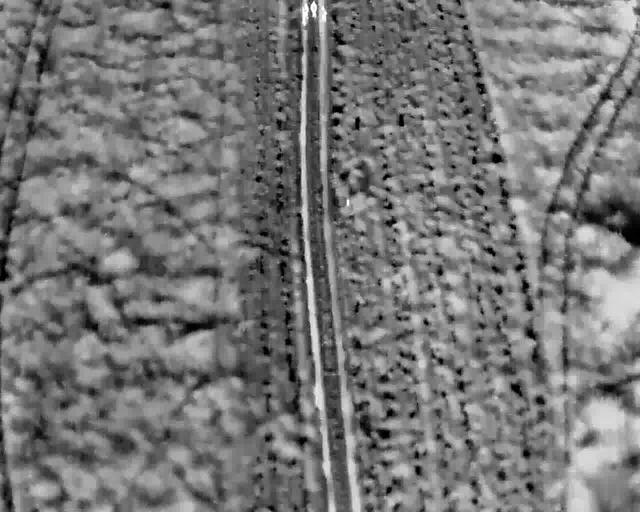person: (319, 4, 329, 22), (309, 0, 319, 18), (300, 9, 310, 25), (300, 2, 310, 17)
